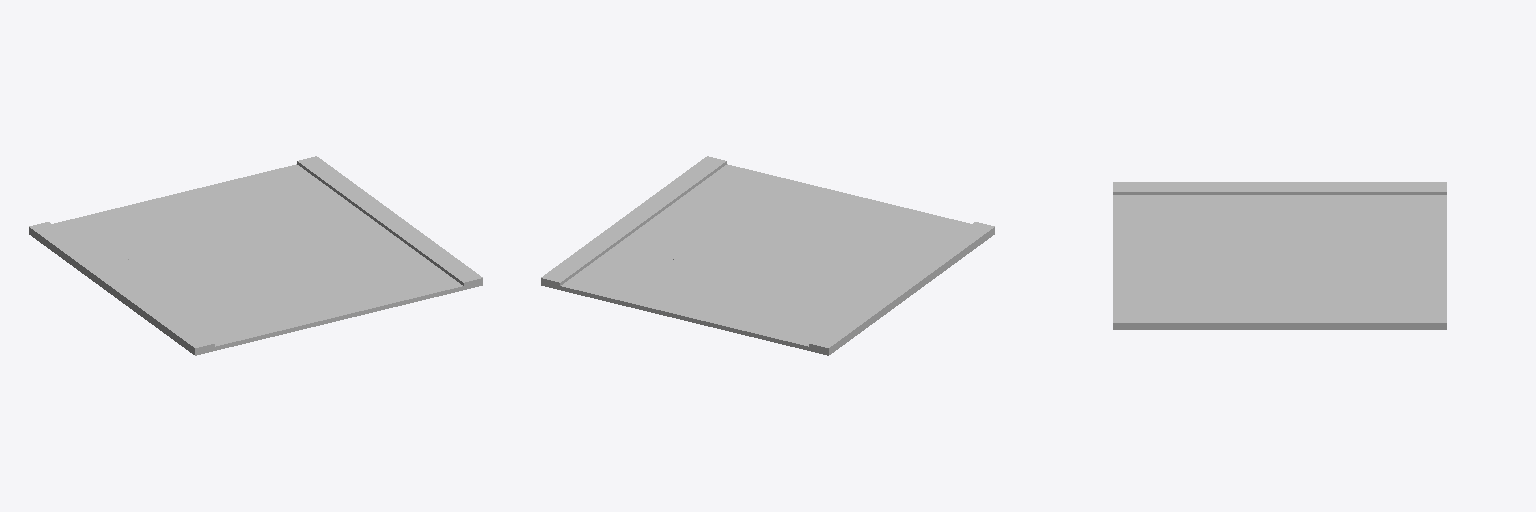
File: road_crosswalk.obj
The picture shows the model from 3 angles: view 1: azimuth 30°, elevation 25°; view 2: azimuth 150°, elevation 25°; view 3: azimuth 270°, elevation 25°; orthographic projection.
Parts seen in each view (by area): view 1: Road6; view 2: Road6; view 3: Road6.
Part boxes in pixels (left/top/right/bottom): Road6: left=29, top=156, right=482, bottom=355; Road6: left=541, top=156, right=994, bottom=355; Road6: left=1113, top=182, right=1446, bottom=329.
Size of the model in its own units: 2 by 0.05 by 2.